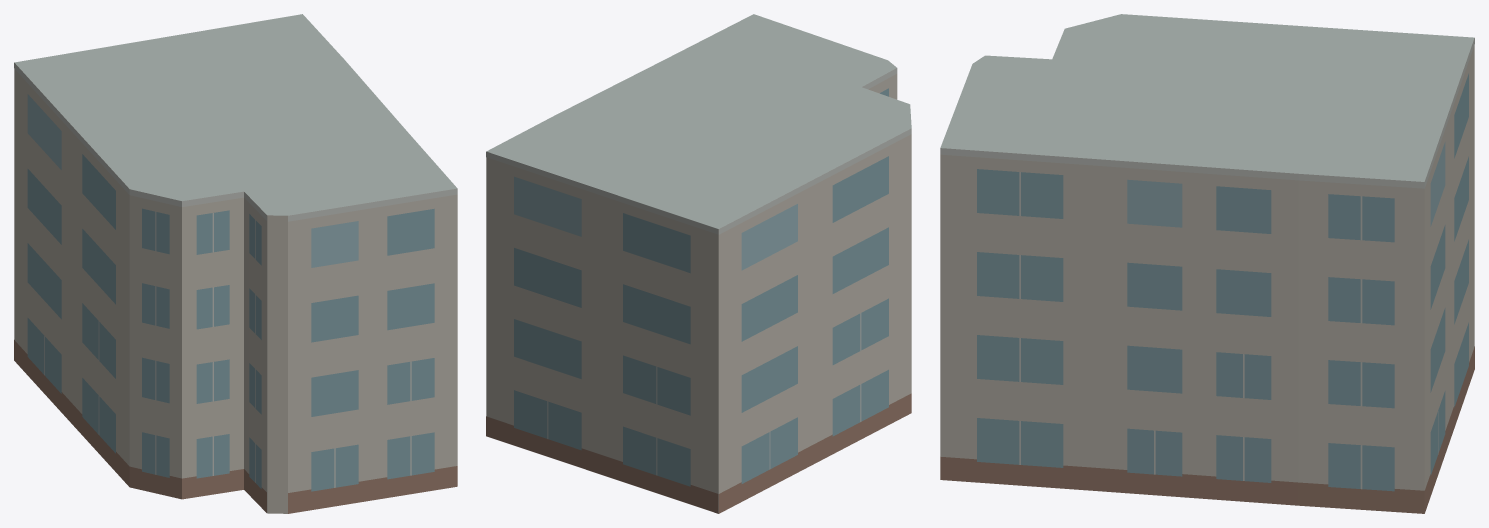
File: survey-upis-32734436.glb
3 renders of one model, left to right at view 1: azimuth 30°, elevation 25°; view 2: azimuth 150°, elevation 25°; view 3: azimuth 270°, elevation 25°, orthographic. The views are drawn at different scales.
Parts seen in each view (by area): view 1: survey-upis-32734436.tmp; view 2: survey-upis-32734436.tmp; view 3: survey-upis-32734436.tmp.
Part boxes in pixels (bbox=[...]): survey-upis-32734436.tmp: bbox=[14, 14, 457, 513]; survey-upis-32734436.tmp: bbox=[486, 14, 911, 513]; survey-upis-32734436.tmp: bbox=[940, 14, 1474, 513].
Size of the model in its own units: 13.25 by 12.2 by 17.82.
